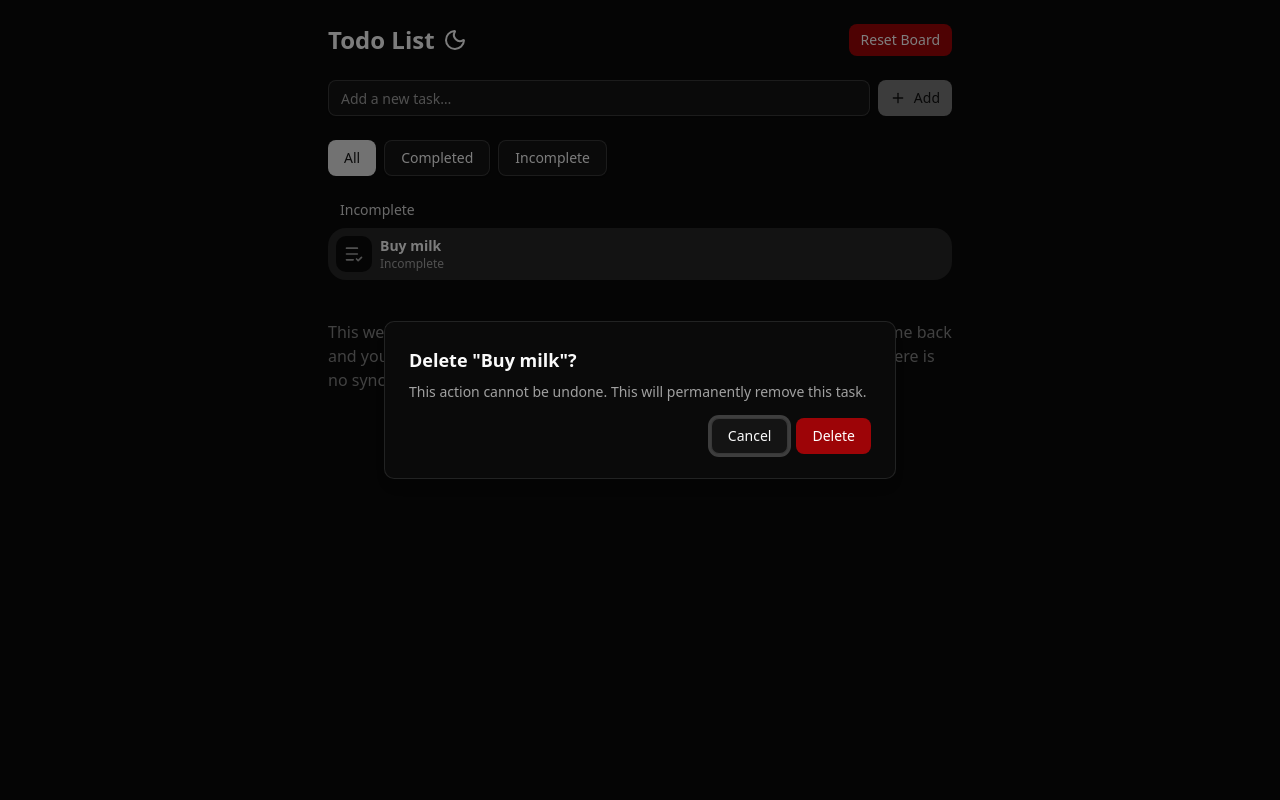
Test case: Todo App › keeps the task when canceling the delete confirmation
Earlier steps of the test are not shown.
Check: the dialog is shown, box [384,321,896,479]
Click the button "Cancel" at {"x": 750, "y": 436}, box [711,418,788,454]
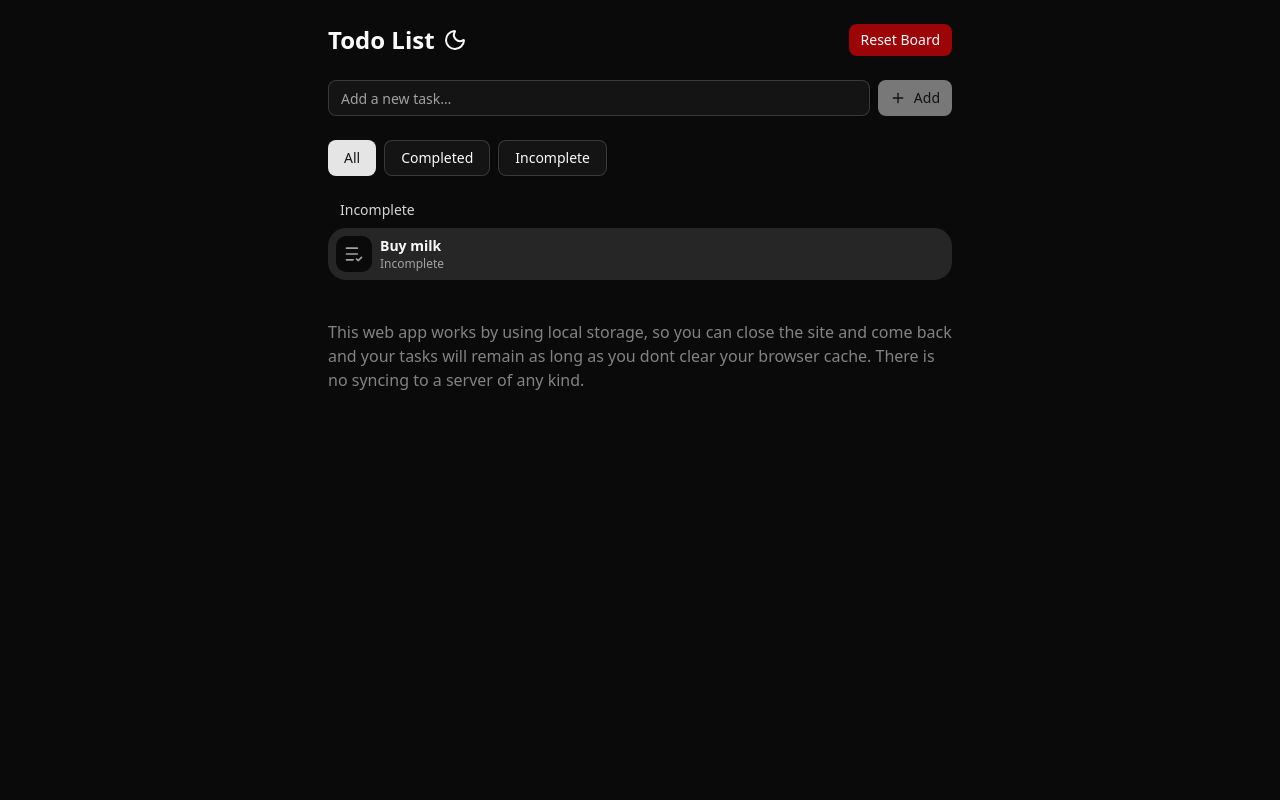
Check: the text "Buy milk" is shown, box [380,236,444,256]
Check: the dialog is gone
